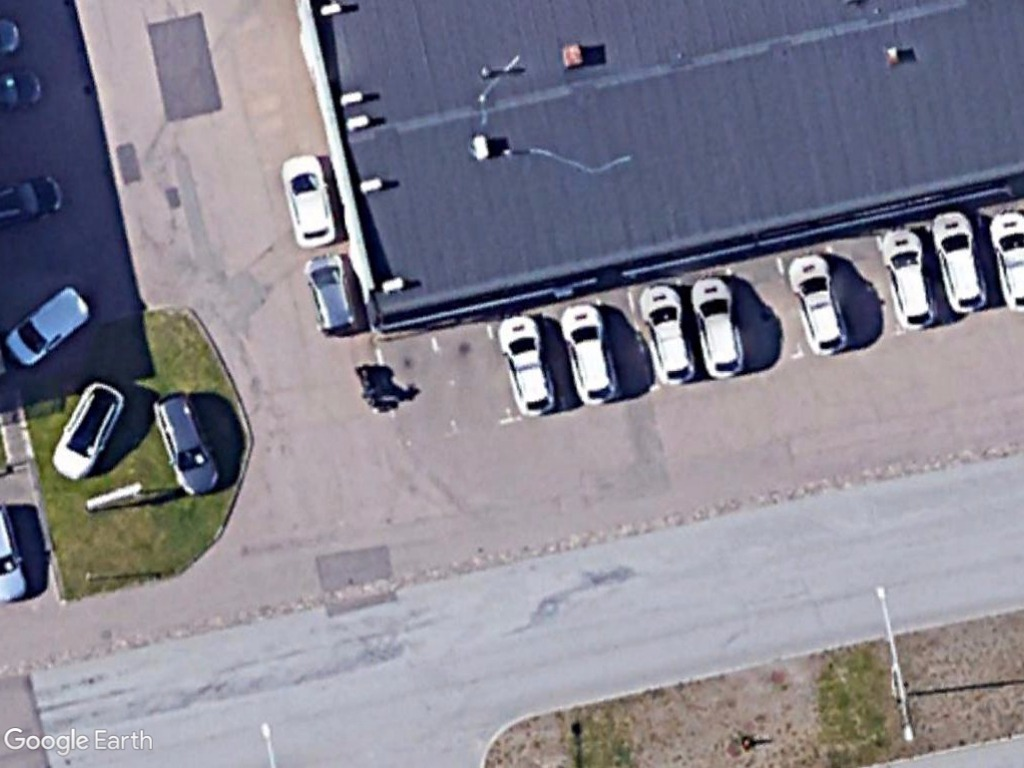car: (47, 375, 132, 486), (151, 388, 226, 500), (493, 305, 563, 421), (786, 250, 858, 361), (635, 277, 703, 390), (929, 208, 995, 318), (686, 272, 750, 384), (559, 300, 625, 408), (880, 222, 942, 334), (278, 152, 341, 250), (302, 248, 363, 343)
van: (5, 280, 93, 369)
